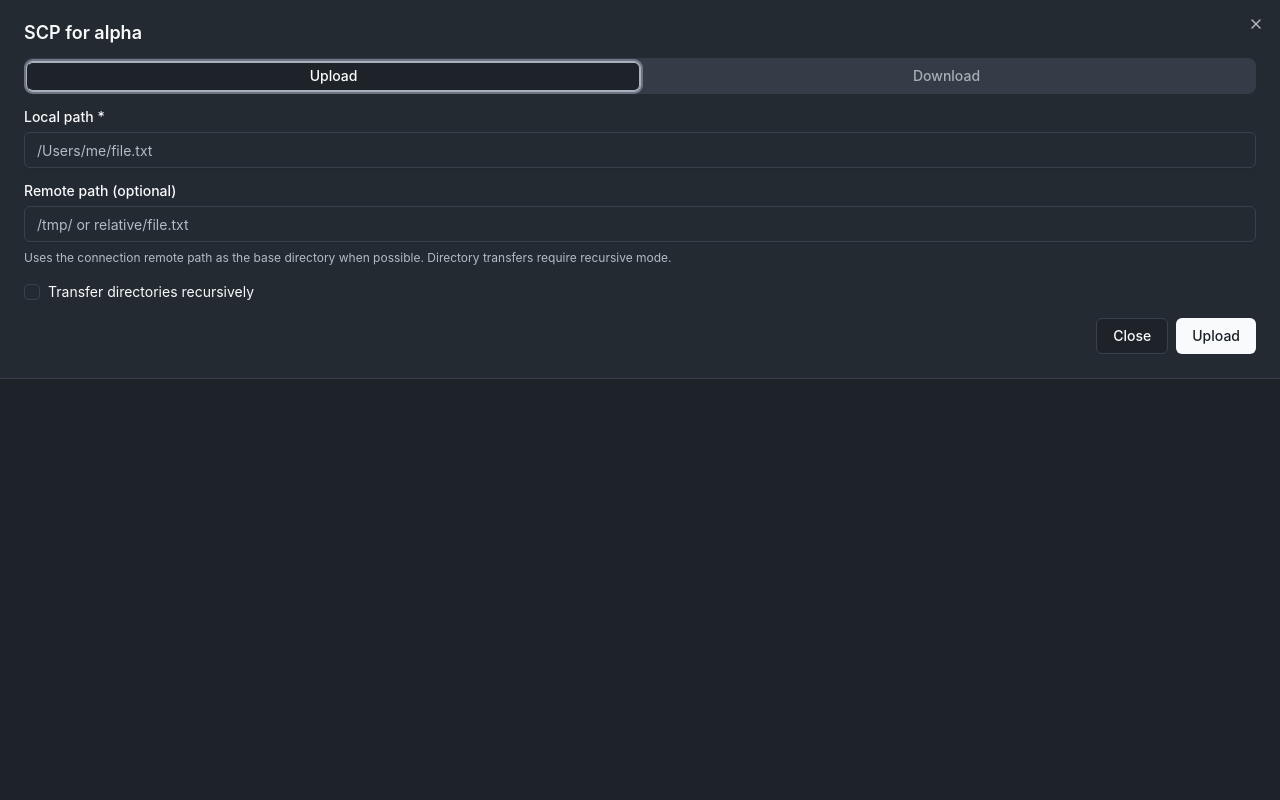
Scenario: ScpDialog result scoping › does not show a previous connection's result when reopened for another
Type "/tmp/up.txt" into the field with test id "scp-local-path" at (640, 150), box 24,132 -> 1256,168
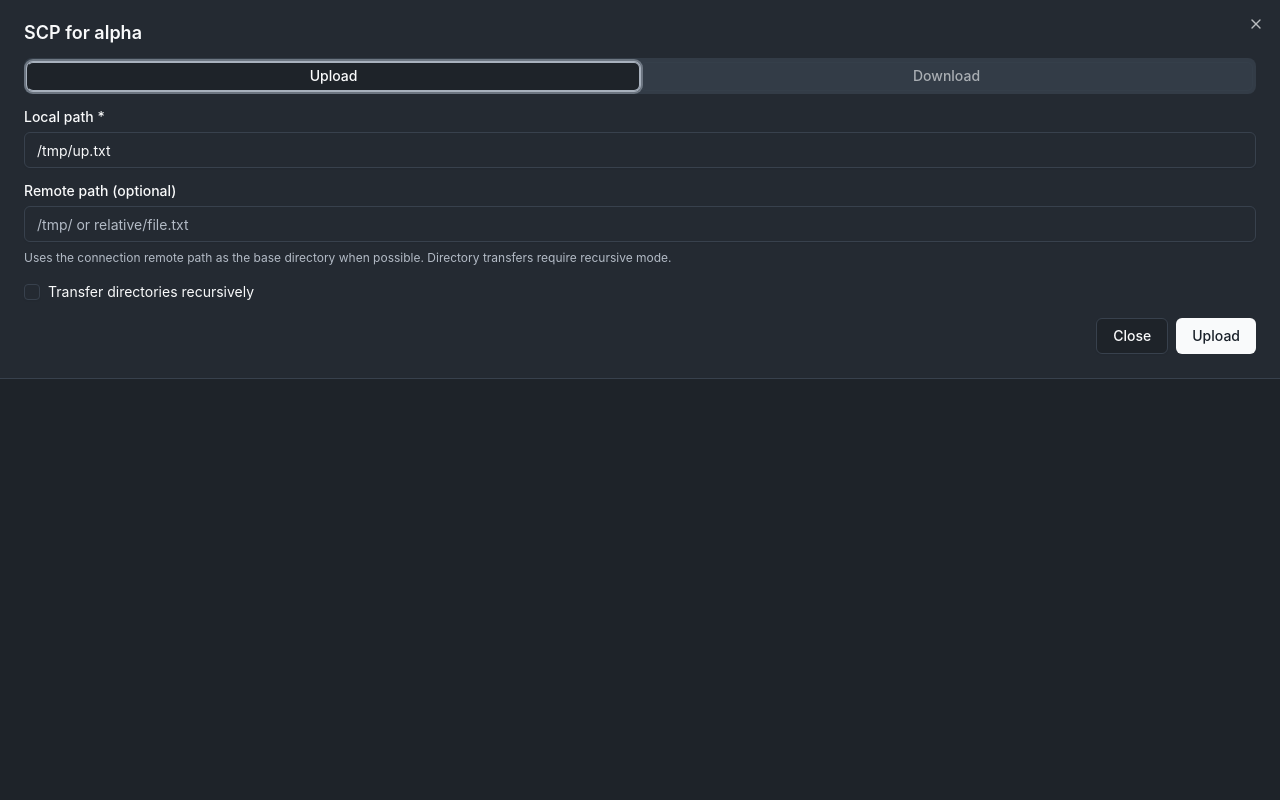
Click the button with test id "scp-upload" at (1216, 336), box 1176,318 -> 1256,354
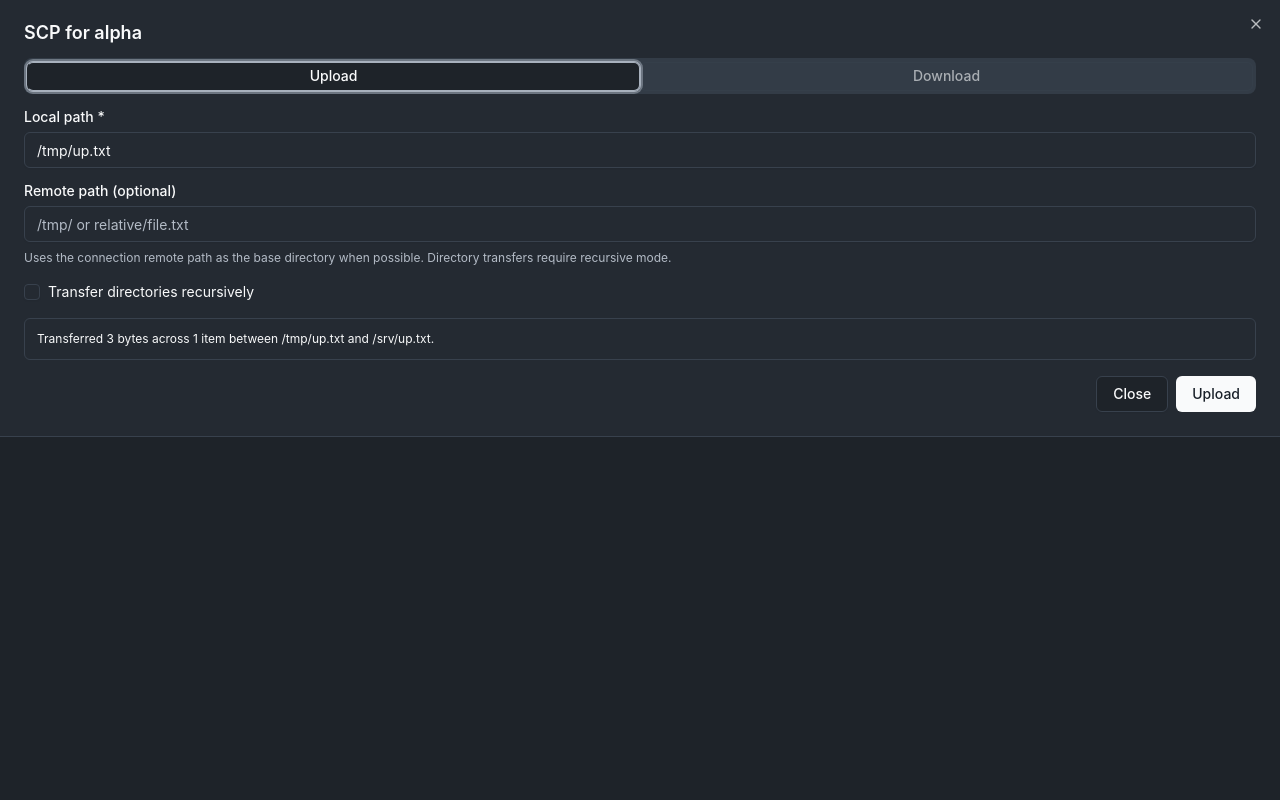
Result: the text with test id "scp-status" is shown at 24,318 -> 1256,360
